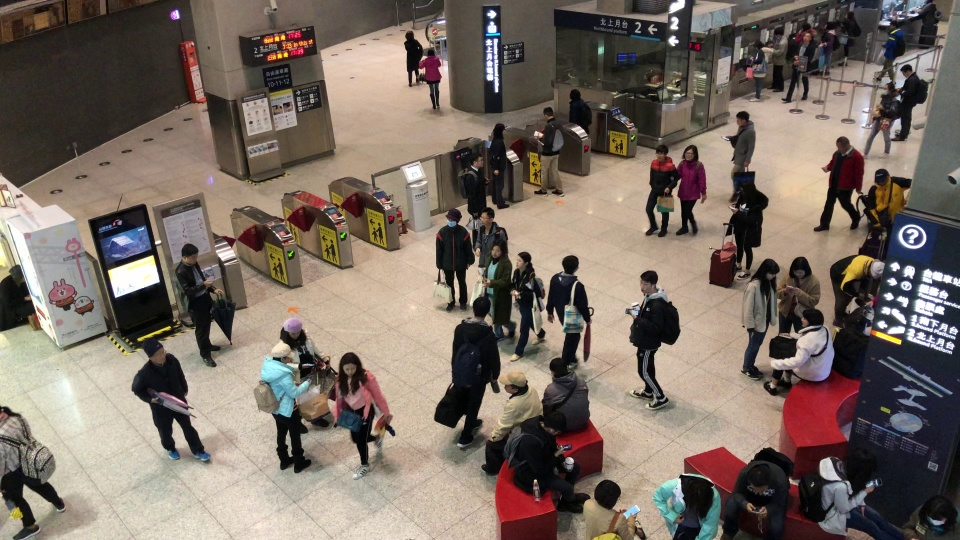person_head: (845, 447, 877, 485), (594, 479, 622, 509), (926, 498, 950, 527), (747, 465, 770, 494), (142, 338, 167, 363), (503, 369, 527, 394), (754, 257, 780, 280), (688, 482, 711, 507), (543, 411, 566, 435), (280, 318, 305, 340), (339, 352, 361, 376), (789, 256, 812, 278), (801, 308, 825, 327), (471, 296, 491, 318), (639, 270, 658, 293), (271, 342, 291, 362), (180, 242, 199, 263), (561, 255, 579, 274), (549, 357, 568, 375), (868, 258, 884, 279), (446, 208, 461, 227), (683, 144, 699, 161), (480, 207, 495, 225), (10, 264, 25, 282), (835, 136, 850, 154), (874, 168, 890, 184), (468, 152, 484, 167), (516, 251, 531, 267), (740, 181, 756, 196), (655, 144, 669, 161), (735, 110, 750, 125), (492, 122, 505, 136), (899, 64, 913, 77), (881, 82, 896, 94), (569, 88, 581, 100), (773, 27, 785, 39), (543, 106, 554, 119), (752, 40, 765, 50), (801, 21, 811, 31), (802, 32, 812, 42), (405, 30, 414, 40), (844, 11, 854, 20), (889, 21, 899, 30), (426, 48, 435, 57), (825, 21, 834, 30)
person_vbox: (131, 338, 212, 462), (798, 447, 904, 540), (502, 411, 590, 514), (0, 405, 65, 539), (331, 352, 392, 479), (253, 342, 312, 473), (451, 296, 501, 448), (628, 270, 681, 410), (720, 447, 795, 540), (480, 369, 542, 477), (172, 243, 224, 368), (763, 308, 834, 396), (279, 318, 331, 434), (545, 255, 592, 369), (813, 136, 865, 232), (652, 473, 721, 540), (740, 258, 778, 379), (724, 181, 769, 281), (509, 252, 547, 363), (435, 209, 476, 311), (829, 254, 885, 328), (540, 358, 591, 436), (583, 479, 647, 540), (775, 256, 821, 333), (456, 152, 489, 252), (861, 168, 912, 232), (644, 144, 679, 237), (859, 82, 901, 159), (722, 111, 756, 203), (674, 144, 707, 236), (890, 64, 928, 142), (533, 107, 565, 197), (779, 32, 817, 102), (901, 494, 960, 539), (0, 264, 35, 331), (872, 20, 905, 86), (475, 207, 509, 266), (488, 122, 510, 209), (766, 26, 795, 92), (810, 21, 840, 77), (746, 40, 773, 102), (418, 48, 442, 111), (794, 22, 817, 87), (837, 9, 862, 67), (403, 30, 423, 87), (568, 88, 592, 135), (916, 0, 940, 26)
